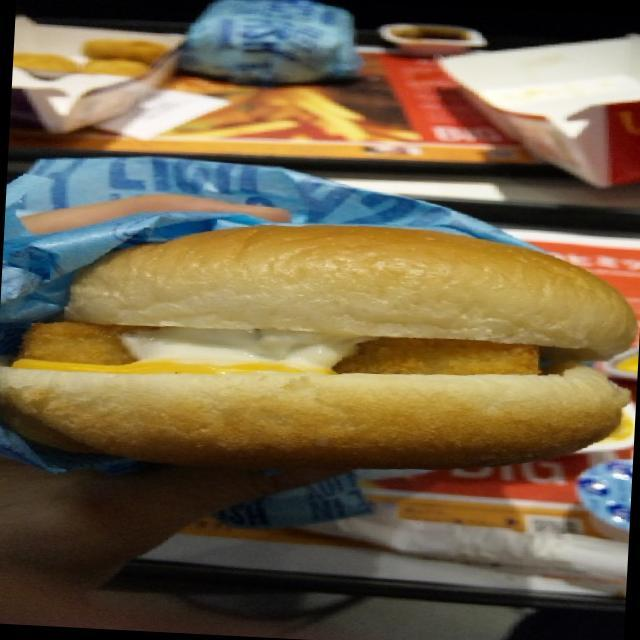Hamburger: (5, 206, 640, 514)
